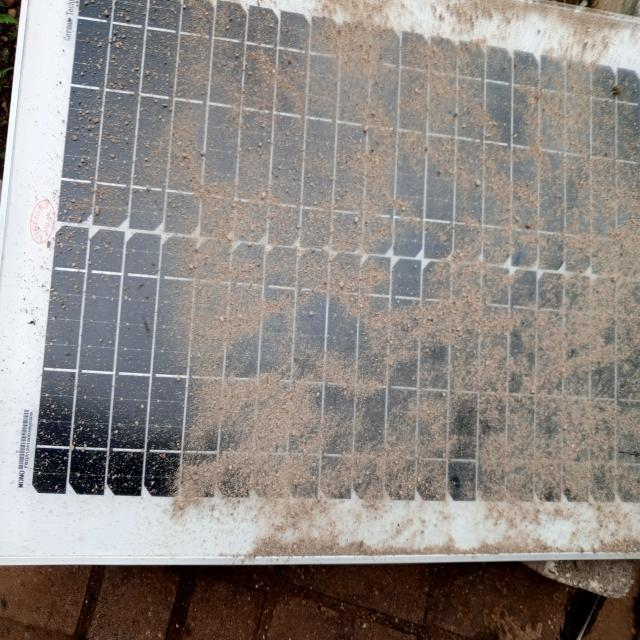Anomaly Solar Panel: (53, 14, 637, 530)
Surface Contaminant: (53, 56, 637, 489)
